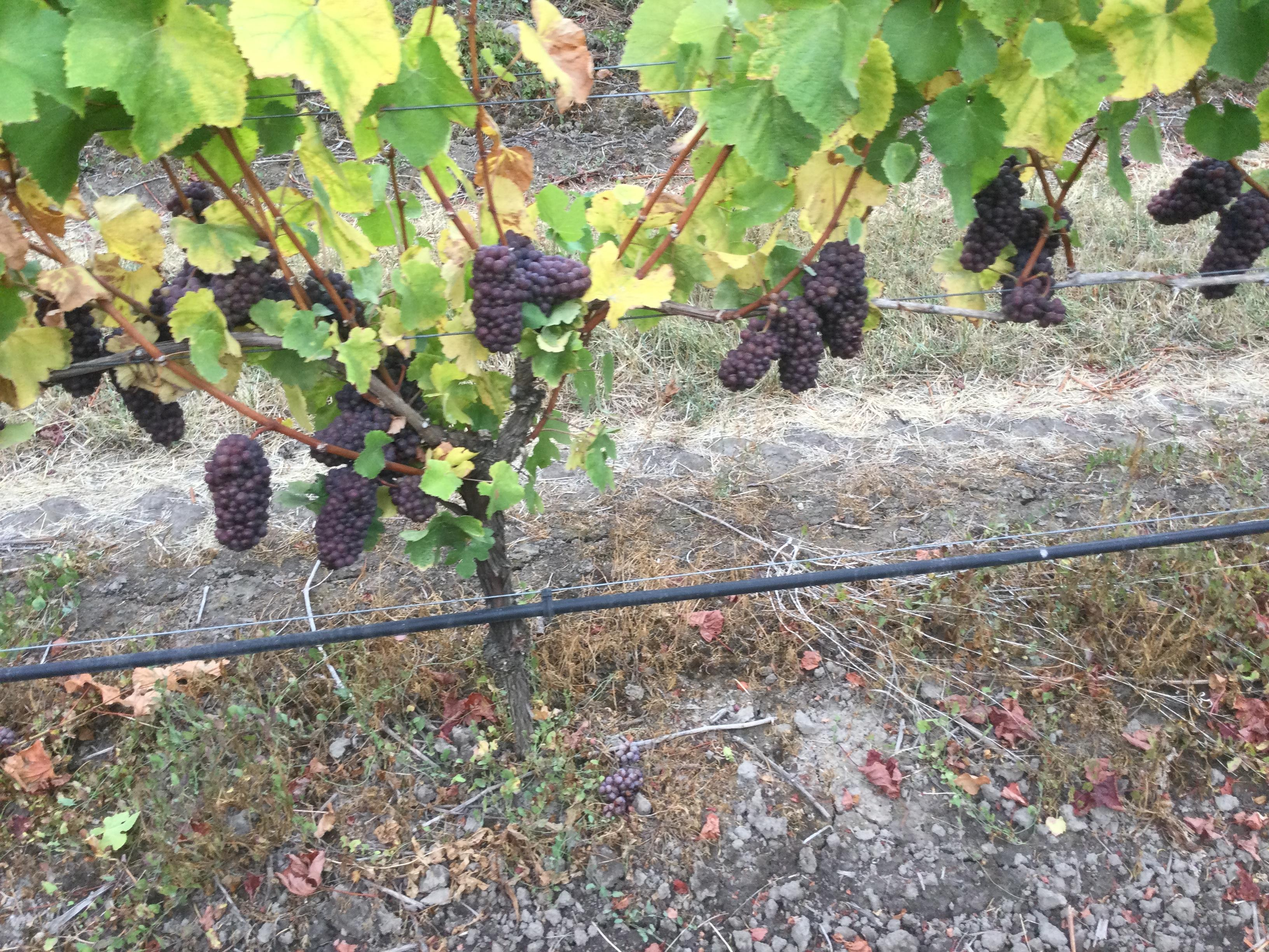leaf: (65, 0, 248, 161), (229, 0, 400, 125), (748, 0, 888, 133), (989, 26, 1120, 156), (3, 90, 130, 201), (1094, 0, 1216, 98), (704, 79, 820, 180), (0, 0, 83, 122), (517, 0, 593, 112), (795, 151, 888, 240), (582, 242, 673, 325), (297, 117, 373, 213), (923, 84, 1007, 164), (169, 289, 241, 382), (881, 0, 961, 82), (400, 509, 493, 578), (622, 0, 690, 91), (0, 326, 70, 408), (311, 180, 375, 269), (932, 241, 1011, 309), (844, 37, 897, 138), (94, 194, 164, 266), (1206, 0, 1268, 81), (171, 216, 257, 273), (1184, 99, 1260, 159), (246, 77, 302, 156), (1096, 100, 1138, 202), (402, 6, 462, 75), (392, 256, 447, 331), (517, 331, 586, 386), (87, 252, 162, 301), (439, 303, 489, 373), (1019, 20, 1075, 79), (37, 265, 110, 310), (427, 361, 478, 425), (731, 177, 795, 228), (584, 183, 645, 236), (535, 183, 587, 241), (336, 327, 382, 392), (670, 0, 728, 50), (282, 310, 339, 360), (965, 0, 1039, 38), (956, 18, 997, 83), (267, 187, 315, 240), (477, 460, 523, 514), (582, 424, 617, 491), (198, 136, 244, 186), (357, 201, 400, 247), (353, 430, 394, 478), (203, 199, 255, 235), (1128, 110, 1162, 164), (249, 299, 296, 337), (262, 208, 298, 257), (420, 458, 461, 499), (346, 259, 383, 304), (0, 285, 27, 340), (231, 125, 259, 161), (0, 421, 35, 448), (1254, 89, 1268, 139), (652, 94, 687, 112), (1002, 782, 1028, 806), (115, 299, 135, 316), (643, 216, 668, 229), (404, 221, 416, 247), (186, 156, 201, 173), (308, 239, 318, 254), (694, 149, 701, 157), (258, 249, 266, 256), (235, 3, 243, 6), (223, 200, 229, 203), (713, 149, 716, 154), (547, 340, 549, 345), (684, 12, 686, 16), (309, 233, 311, 236), (252, 3, 255, 5), (551, 383, 554, 385), (243, 126, 248, 127), (252, 123, 254, 125), (415, 360, 417, 362), (253, 238, 254, 242), (377, 166, 381, 167), (921, 0, 923, 2), (212, 931, 213, 934), (706, 0, 708, 1), (411, 196, 412, 197), (1011, 143, 1011, 144), (670, 219, 671, 219), (288, 149, 288, 150), (217, 203, 220, 203), (689, 11, 689, 11), (767, 77, 769, 77)
